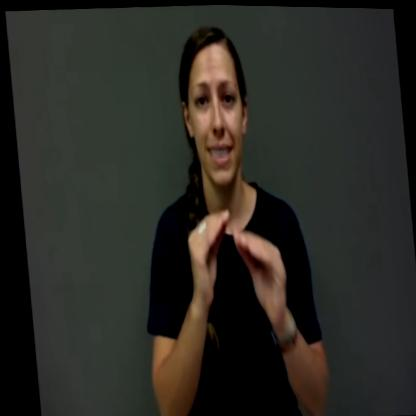Fix: (118, 9, 333, 416)
